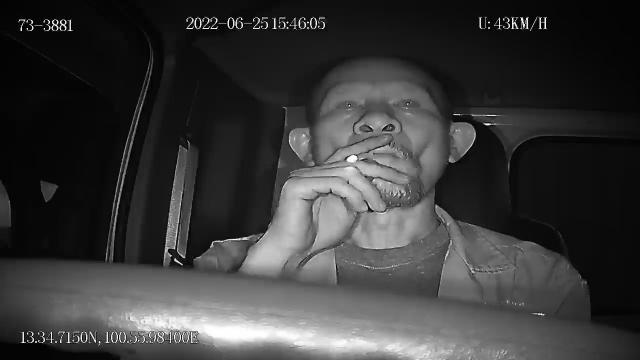SafeDriving: (390, 90, 428, 118), (350, 114, 386, 140)
Smoking: (346, 153, 374, 163)
